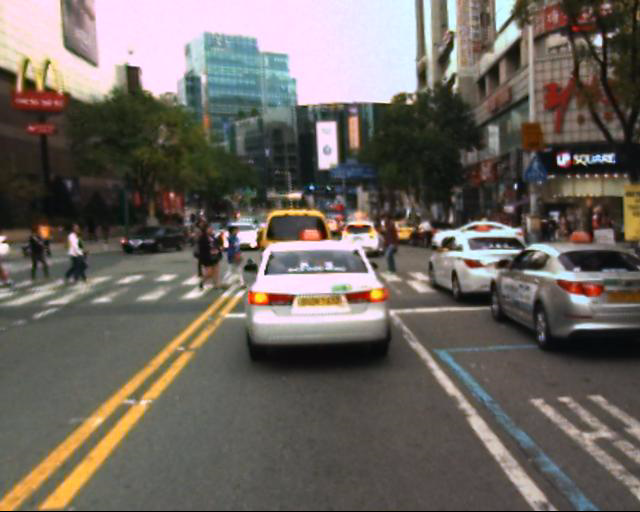person: (521, 196, 617, 249), (21, 210, 66, 290), (61, 214, 99, 292), (375, 208, 411, 285), (186, 218, 222, 291), (217, 220, 250, 297)
